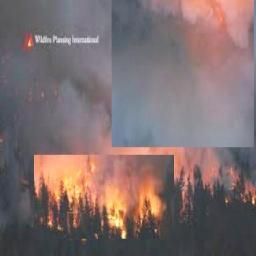Heavy smoke: (0, 0, 255, 203)
Small fire: (36, 153, 172, 240)
